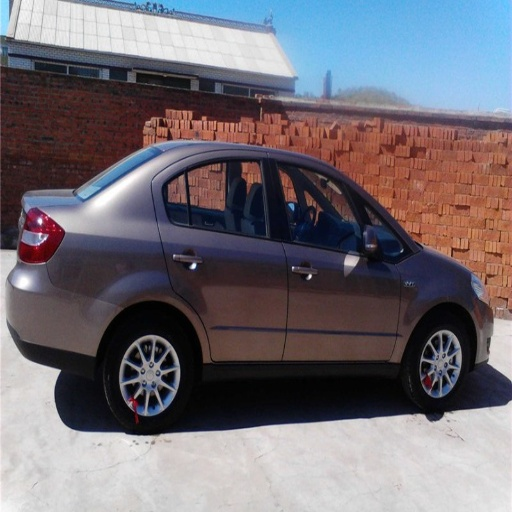back_bumper: (6, 263, 100, 334)
back_right_door: (156, 153, 288, 361)
trunk: (42, 326, 97, 358)
